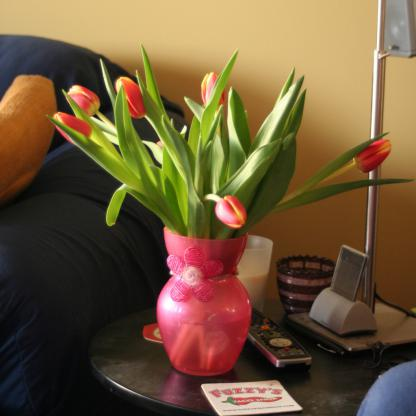vase: (154, 223, 255, 378)
